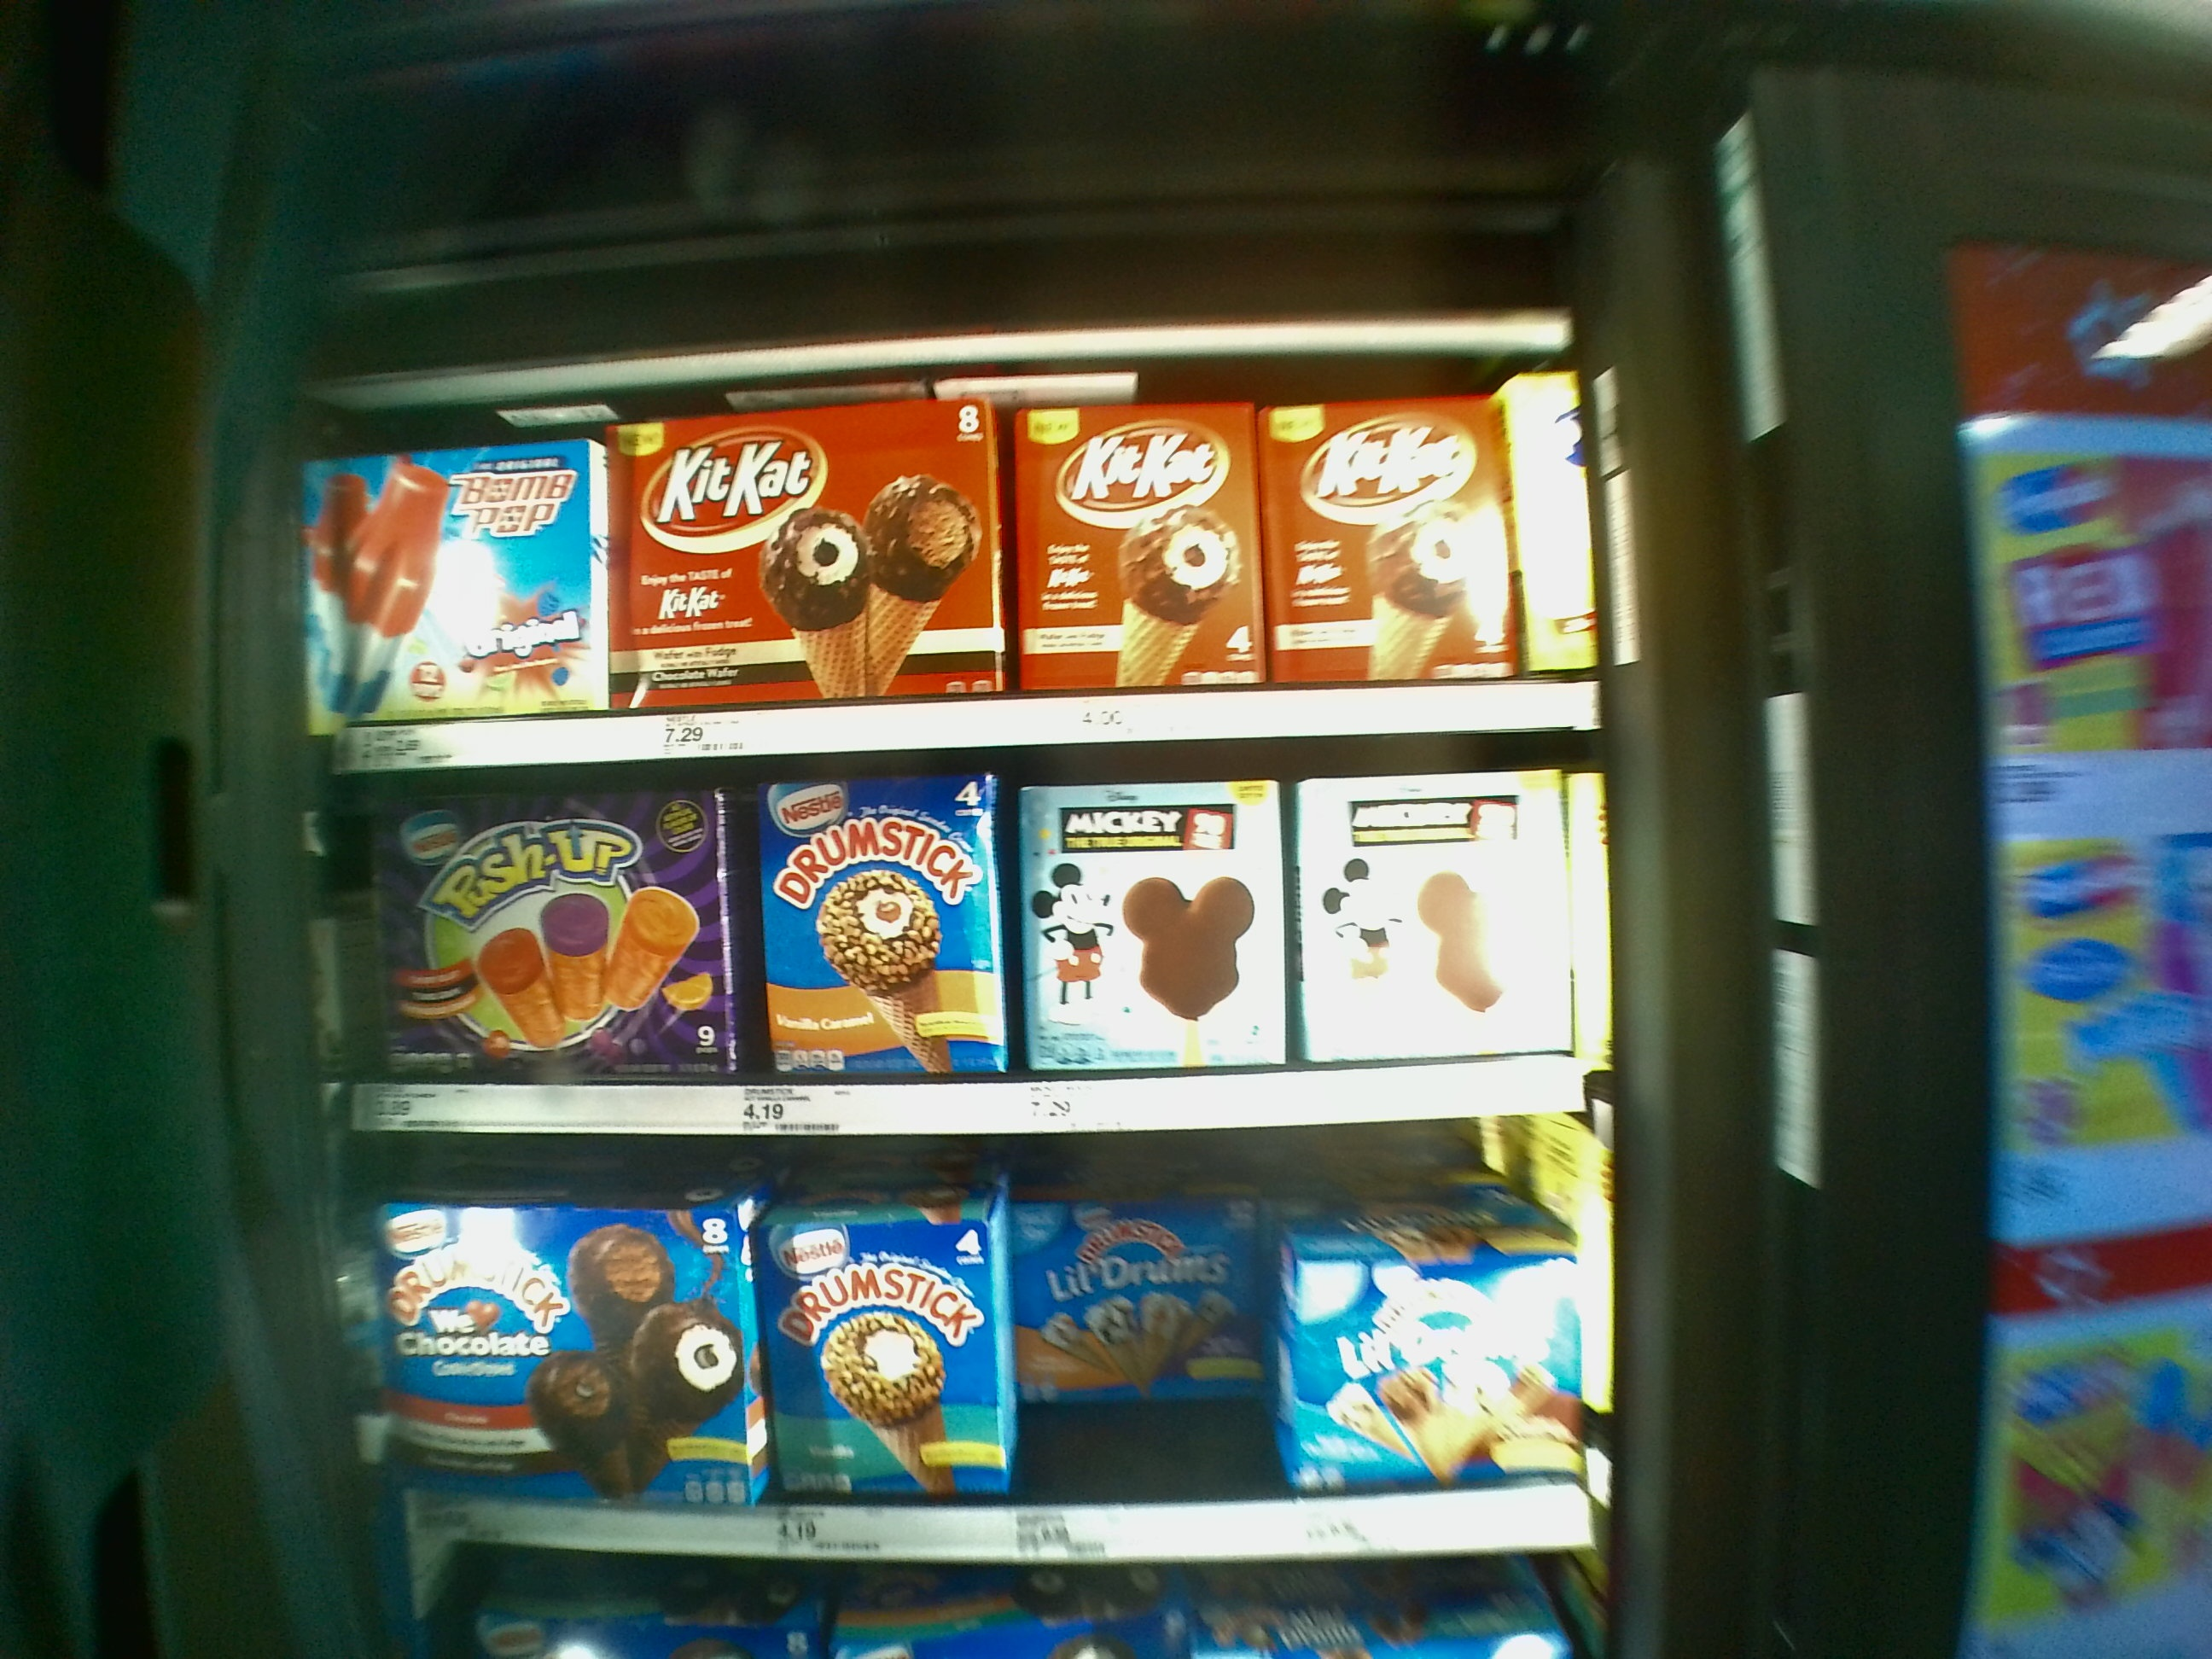shelf: (361, 1126, 1583, 1581), (312, 336, 1613, 735), (331, 741, 1602, 1131)
